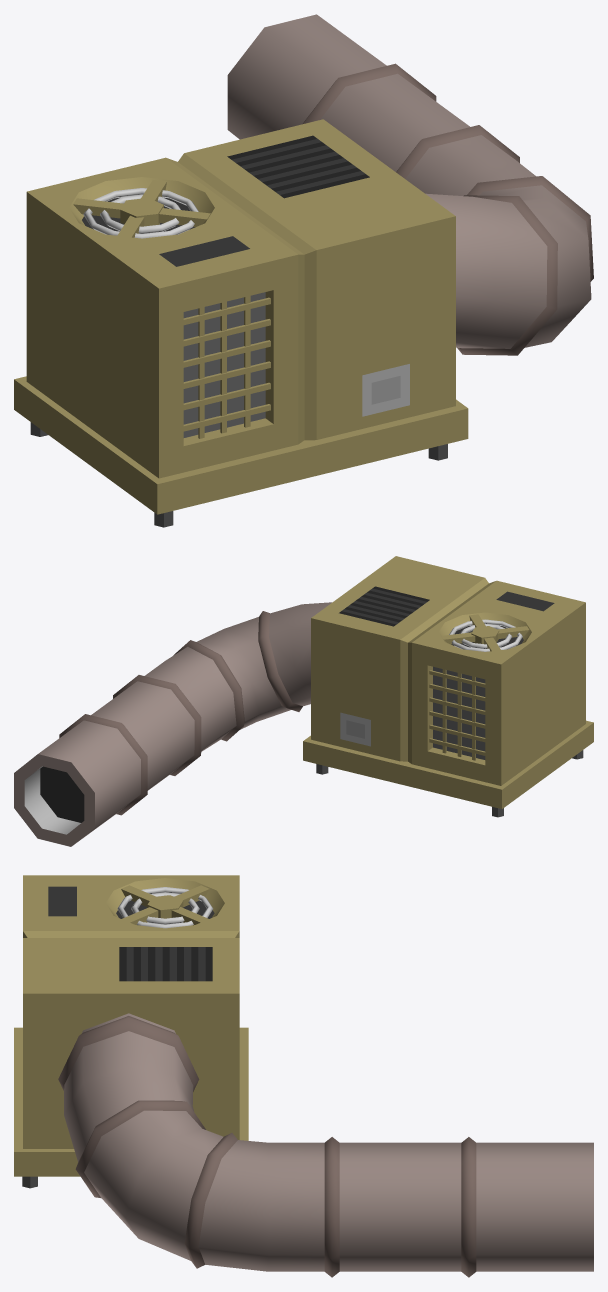
Rendered from conditioner_001.glb.
3 renders of one model, top to bottom at view 1: azimuth 30°, elevation 25°; view 2: azimuth 150°, elevation 25°; view 3: azimuth 270°, elevation 25°, orthographic. The views are drawn at different scales.
Parts seen in each view (by area): view 1: conditioner_001; view 2: conditioner_001; view 3: conditioner_001.
Part boxes in pixels (box(x1,y1,x2,y2)): conditioner_001: box(14, 14, 593, 527); conditioner_001: box(14, 556, 593, 846); conditioner_001: box(14, 875, 593, 1277).
Size of the model in its own units: 2.3 by 0.9691 by 2.53.
2 materials, 2 textured.
